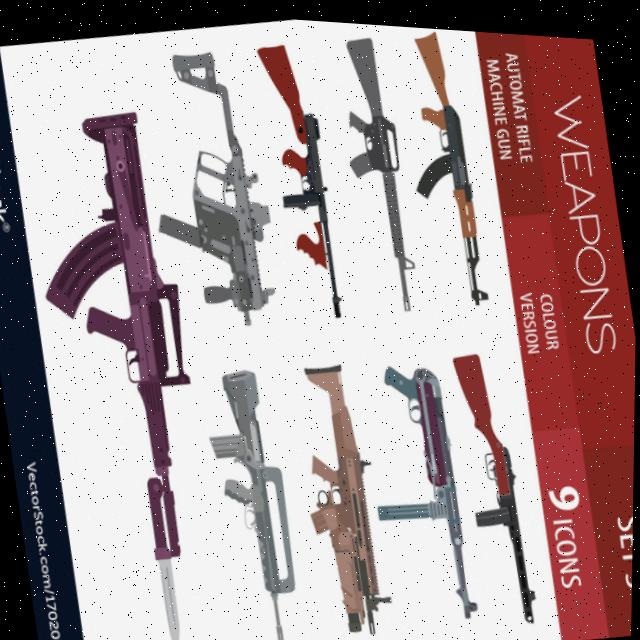firearm: (16, 101, 221, 575), (132, 40, 289, 338), (356, 351, 484, 627), (197, 363, 310, 640), (288, 353, 397, 638), (392, 23, 499, 307), (448, 339, 547, 622), (252, 36, 348, 325), (332, 31, 427, 312)
knife: (139, 473, 191, 640)
